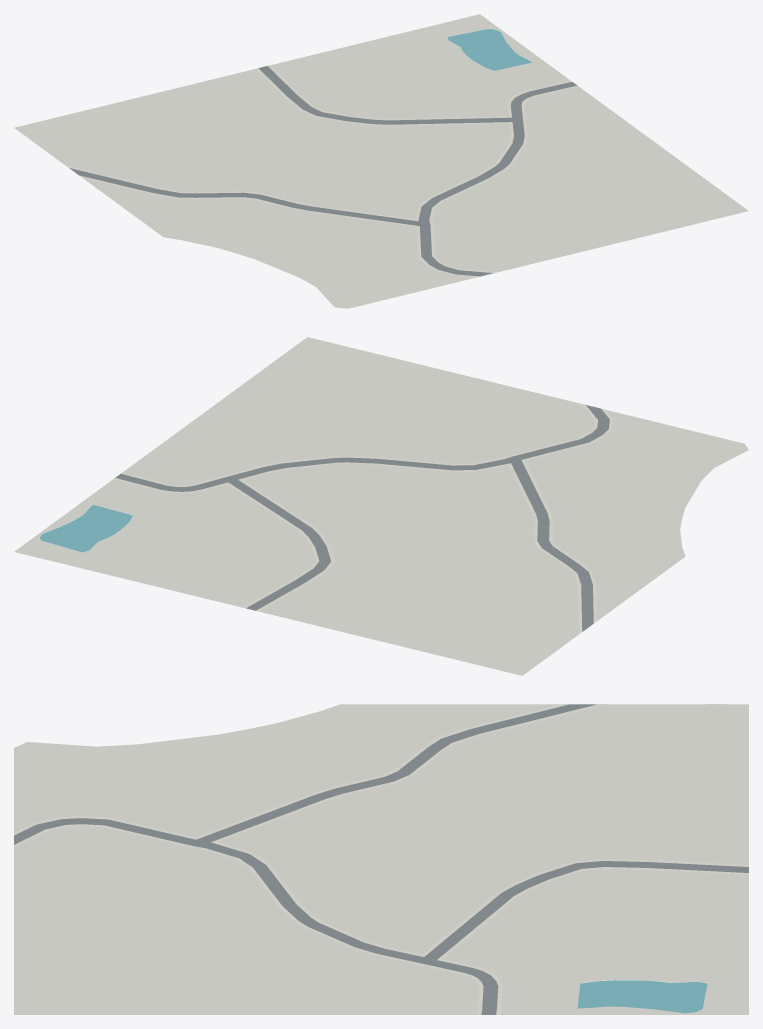
The picture shows the model from 3 angles, top to bottom: view 1: azimuth 30°, elevation 25°; view 2: azimuth 150°, elevation 25°; view 3: azimuth 270°, elevation 25°; orthographic projection. The views are drawn at different scales.
Visible parts, largest first — view 1: city; view 2: city; view 3: city.
Boxes of the visible parts, <box> form: city: <box>14,14,748,308</box>; city: <box>14,337,748,675</box>; city: <box>14,704,748,1014</box>.
Bounding box in the file's own units: 500 × 0.4 × 500.
